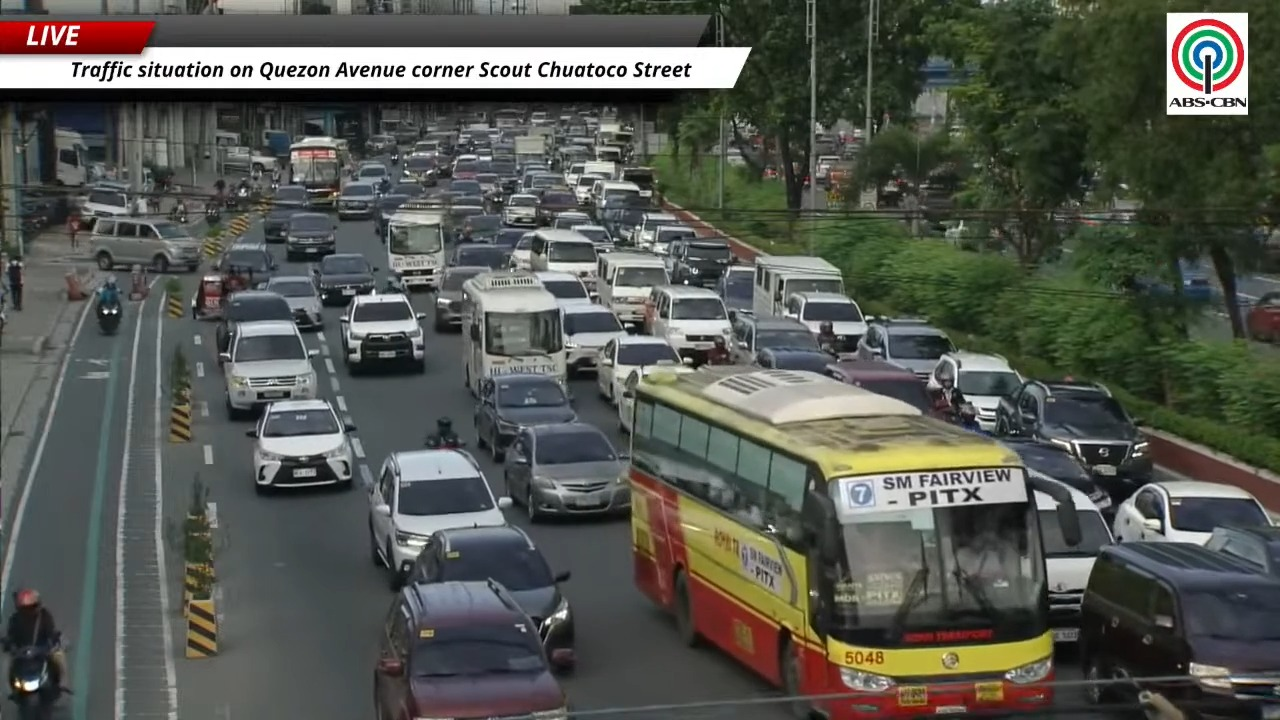bus: (628, 367, 1079, 719), (460, 271, 565, 396), (383, 201, 446, 290), (289, 137, 342, 206), (492, 108, 525, 129)
car: (1080, 543, 1279, 717), (374, 580, 570, 719), (404, 526, 574, 654), (369, 449, 510, 586), (995, 379, 1153, 501), (503, 422, 629, 521), (1034, 488, 1112, 642), (246, 399, 355, 493), (1113, 480, 1271, 544), (219, 318, 317, 419), (474, 374, 577, 460), (1000, 437, 1112, 515), (927, 351, 1023, 431), (340, 293, 426, 373), (645, 285, 733, 363), (855, 318, 956, 380), (825, 360, 935, 416), (596, 335, 681, 403), (616, 364, 693, 433), (785, 291, 866, 353), (215, 290, 293, 352), (561, 303, 626, 376), (729, 315, 820, 363), (1205, 524, 1279, 576), (433, 266, 490, 331), (313, 253, 376, 305), (264, 275, 323, 329), (667, 238, 733, 286), (631, 211, 695, 253), (263, 185, 309, 242), (284, 211, 335, 260), (213, 243, 277, 282), (533, 270, 592, 306), (753, 348, 831, 373), (373, 193, 412, 242), (716, 265, 753, 313), (1245, 292, 1279, 342), (447, 242, 508, 269), (337, 181, 377, 218), (538, 189, 578, 224), (568, 222, 614, 252), (457, 214, 502, 244), (502, 193, 537, 227), (401, 156, 439, 187), (508, 228, 533, 270), (449, 194, 486, 222), (492, 227, 530, 252), (450, 155, 482, 180), (353, 161, 389, 183), (550, 210, 590, 229), (475, 172, 500, 199), (366, 134, 396, 153), (390, 182, 425, 198), (449, 179, 483, 195)
motorcycle: (8, 646, 64, 719), (96, 303, 121, 334), (424, 435, 465, 449), (234, 186, 251, 209), (169, 206, 188, 224), (204, 203, 220, 224), (0, 293, 6, 344), (389, 151, 399, 165), (270, 179, 279, 194)
truck: (514, 136, 545, 163)
